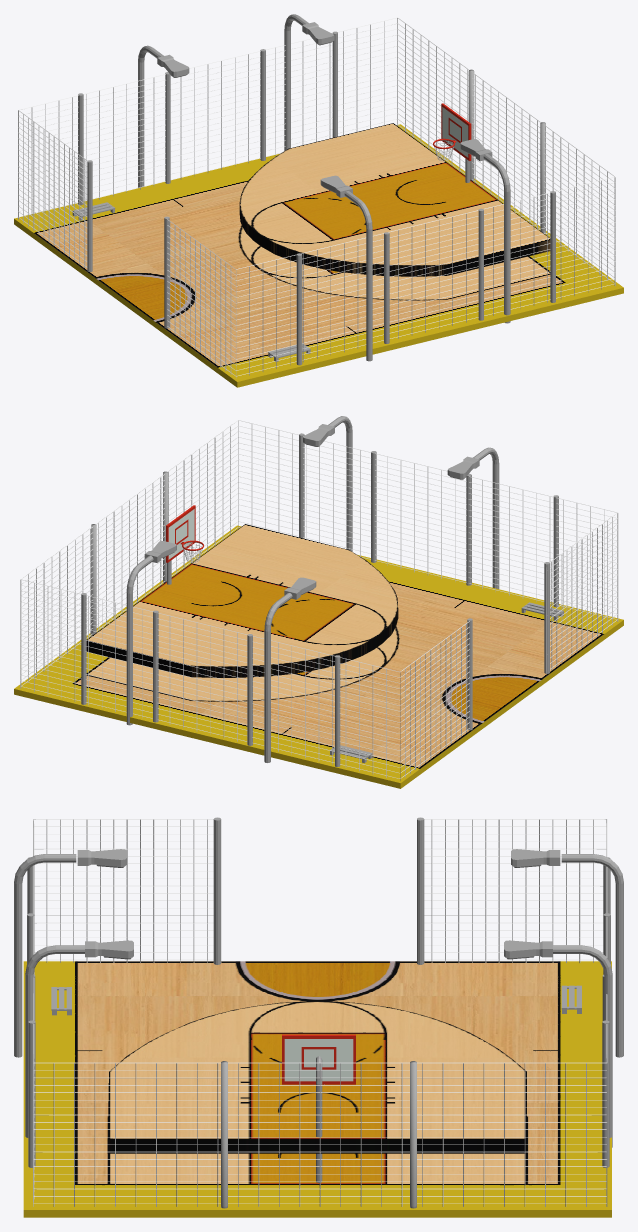
Rendered from basketball_court_new.fbx.
3 views of the same model, one above another, from view 1: azimuth 30°, elevation 25°; view 2: azimuth 150°, elevation 25°; view 3: azimuth 270°, elevation 25° (orthographic). The views are drawn at different scales.
Visible parts, largest first — view 1: Cube.008, Plane.001, Cube.009, Cylinder.008, Cylinder.007, Cylinder.002, Cylinder.004, Cylinder.005, Cylinder.006, Cylinder.001, Cylinder.003, Cylinder.009 (+2 smaller); view 2: Cube.008, Plane.001, Cube.009, Cylinder.008, Cylinder.007, Cylinder.004, Cylinder.005, Cylinder.006, Cylinder.002, Cylinder.001, Cylinder.003, Cylinder.009 (+2 smaller); view 3: Cube.008, Cube.009, Plane.001, Cylinder.008, Cylinder.009, Cylinder.007, Cylinder.006, Cylinder.001, Cylinder.003, Plane.003, Plane.004, Cylinder.002 (+2 smaller).
Part boxes in pixels (left/top/right/bottom): Cube.008: left=14, top=124, right=623, bottom=387; Plane.001: left=18, top=17, right=615, bottom=378; Cube.009: left=239, top=123, right=550, bottom=276; Cylinder.008: left=138, top=45, right=372, bottom=361; Cylinder.007: left=284, top=14, right=510, bottom=323; Cylinder.002: left=78, top=93, right=302, bottom=365; Cylinder.004: left=260, top=49, right=483, bottom=320; Cylinder.005: left=165, top=72, right=389, bottom=343; Cylinder.006: left=87, top=160, right=169, bottom=328; Cylinder.001: left=332, top=31, right=555, bottom=302; Cylinder.003: left=468, top=69, right=545, bottom=233; Cylinder.009: left=441, top=103, right=471, bottom=160; Cube.008: left=14, top=525, right=623, bottom=788; Plane.001: left=20, top=420, right=618, bottom=780; Cube.009: left=86, top=524, right=398, bottom=677; Cylinder.008: left=264, top=447, right=499, bottom=762; Cylinder.007: left=126, top=416, right=352, bottom=725; Cylinder.004: left=153, top=451, right=376, bottom=722; Cylinder.005: left=247, top=473, right=471, bottom=745; Cylinder.006: left=467, top=562, right=549, bottom=730; Cylinder.002: left=335, top=495, right=558, bottom=766; Cylinder.001: left=81, top=433, right=304, bottom=704; Cylinder.003: left=91, top=471, right=168, bottom=635; Cylinder.009: left=166, top=505, right=195, bottom=562; Cube.008: left=23, top=961, right=611, bottom=1217; Cube.009: left=107, top=1001, right=526, bottom=1153; Plane.001: left=33, top=819, right=607, bottom=1206; Cylinder.008: left=14, top=854, right=623, bottom=1057; Cylinder.009: left=282, top=1034, right=355, bottom=1084; Cylinder.007: left=25, top=945, right=612, bottom=1147; Cylinder.006: left=213, top=817, right=424, bottom=964; Cylinder.001: left=28, top=1020, right=609, bottom=1167; Cylinder.003: left=221, top=1061, right=416, bottom=1208; Plane.003: left=77, top=849, right=560, bottom=867; Plane.004: left=85, top=940, right=552, bottom=959; Cylinder.002: left=27, top=857, right=610, bottom=974.
Size of what is drawn, in the model's own units: 279 by 105 by 289.
